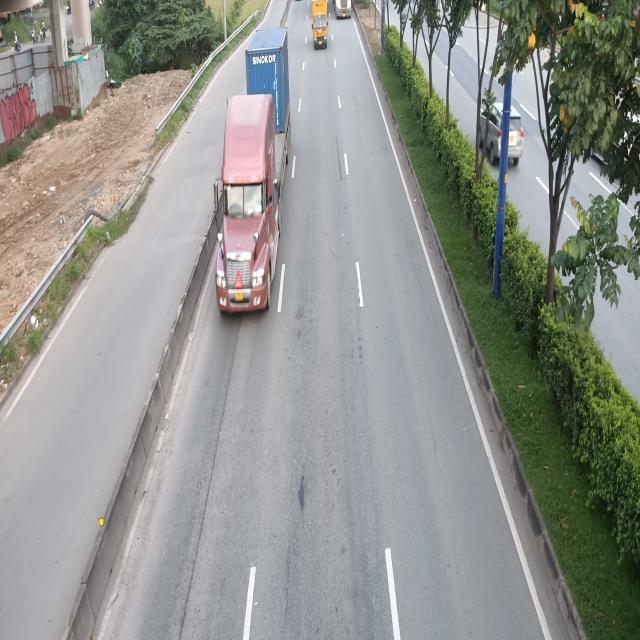container: (215, 25, 293, 315)
truck: (311, 0, 329, 50)
